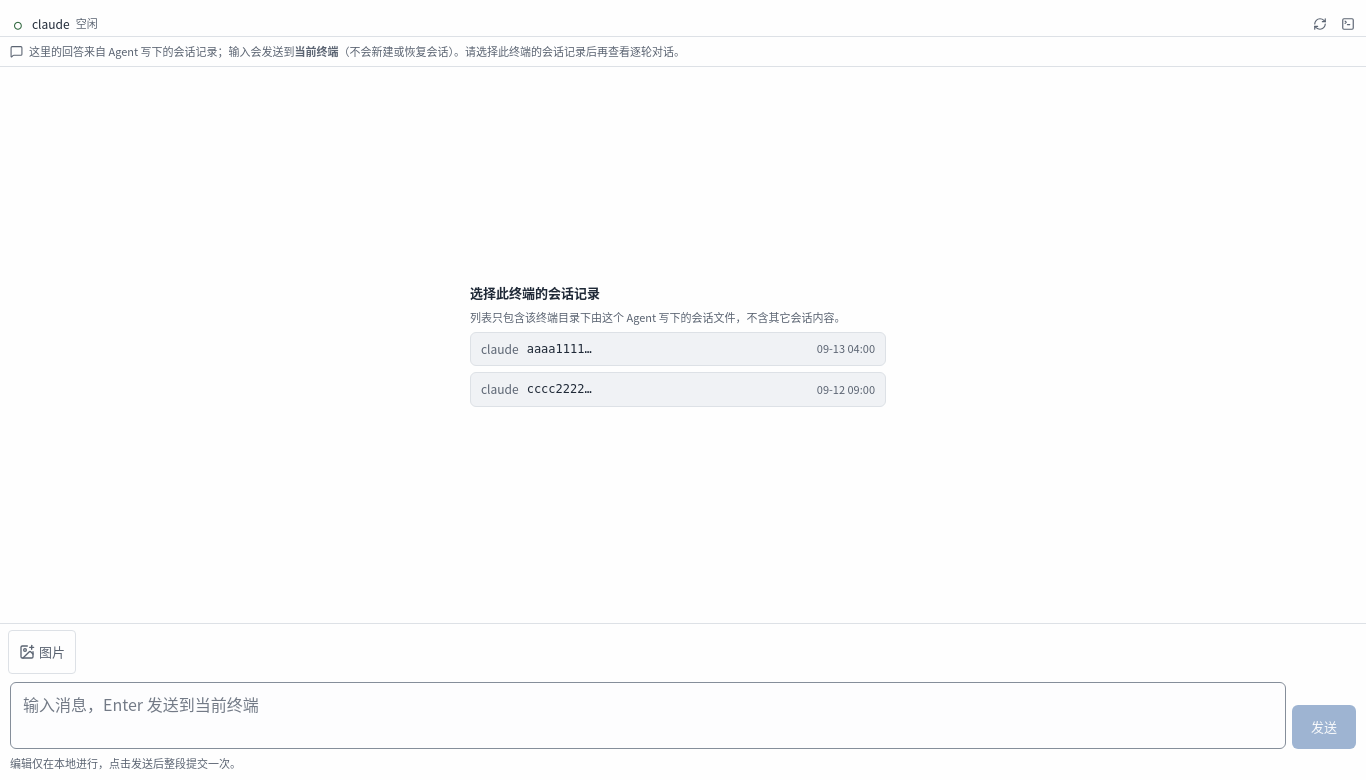
candidate selection › updates a repeated record id in place instead of appending a second copy
Click the button "claude aaaa1111… 09-13 04:00" at (500, 348), box x1=470 y1=332 x2=886 y2=366
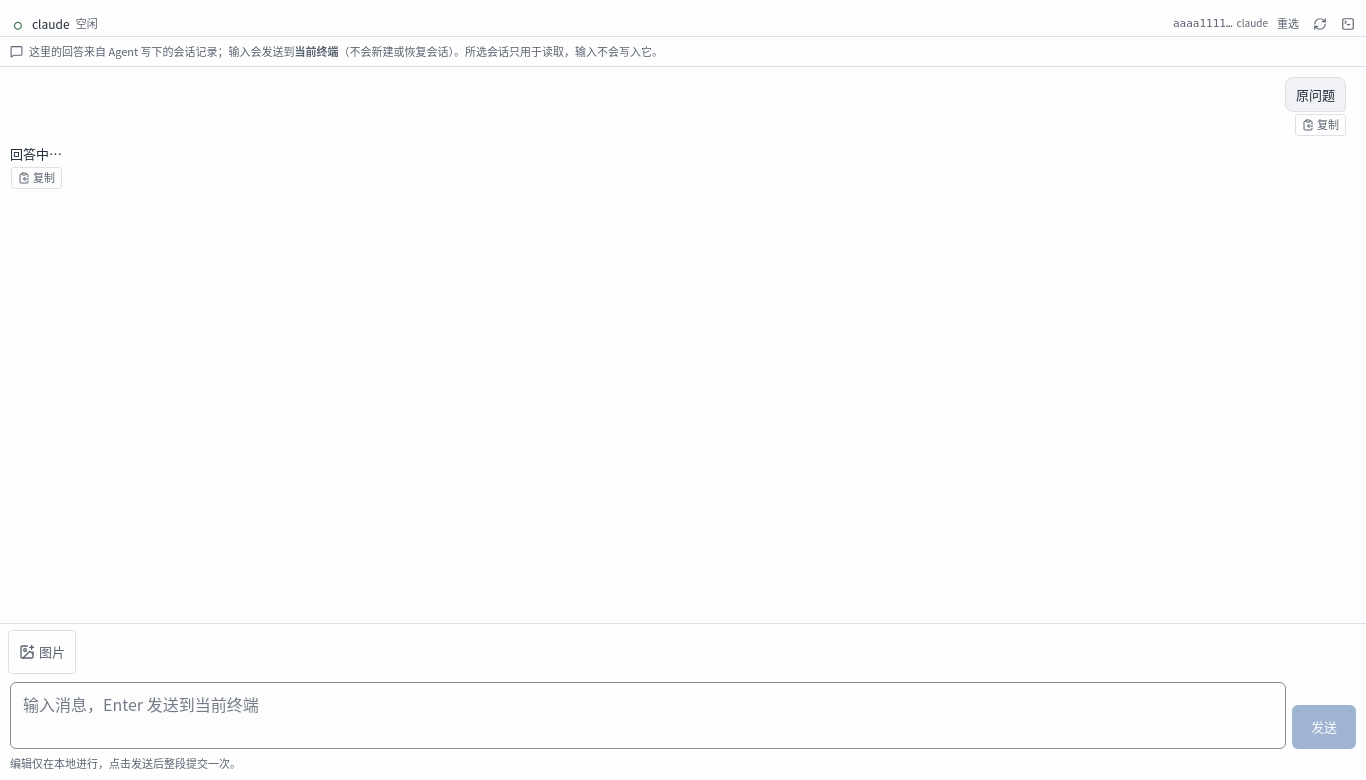
Now the text "回答中…" is shown, box x1=10 y1=144 x2=62 y2=165
Click the button named "刷新会话记录" at (1320, 24), box x1=1308 y1=12 x2=1332 y2=36
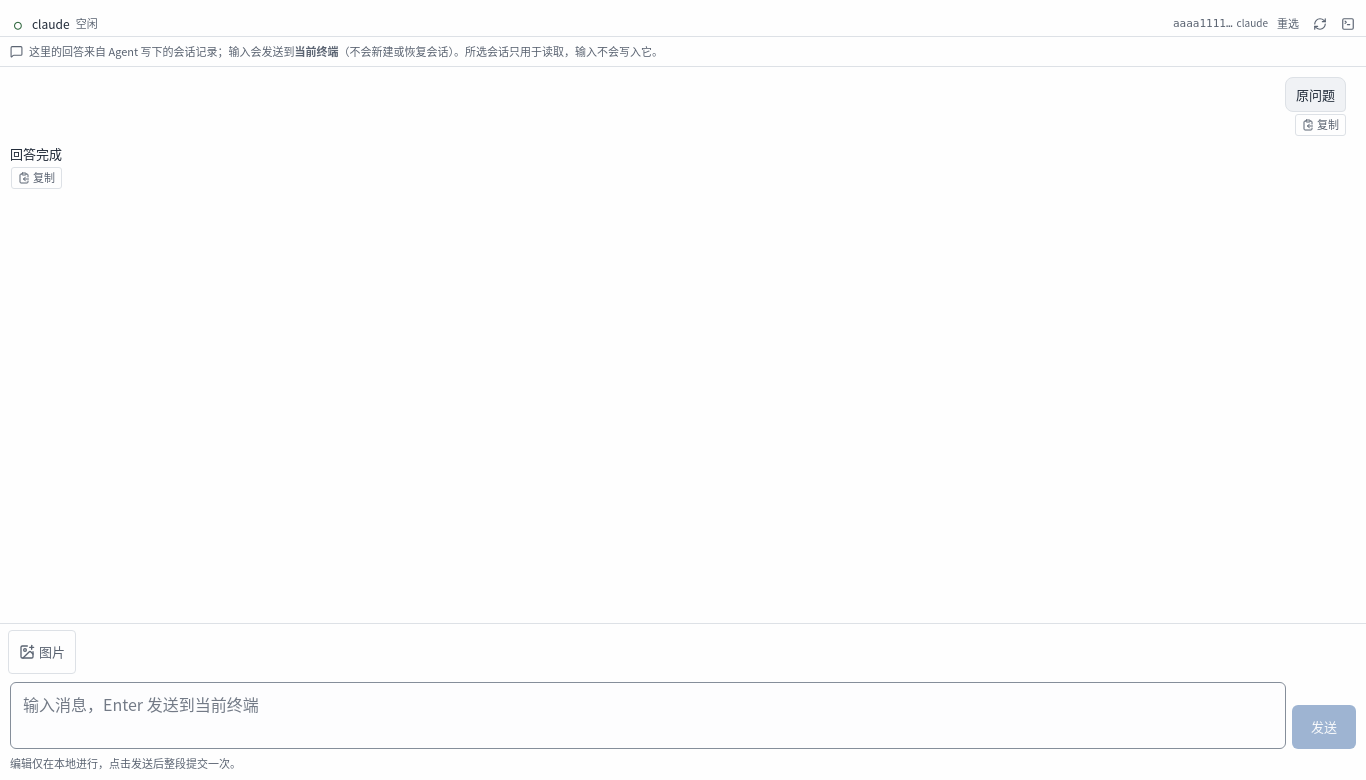
Now the number of elements with class "chat-message-assistant" is 1, box x1=10 y1=144 x2=62 y2=189
Now the text "回答完成" is shown, box x1=10 y1=144 x2=62 y2=165
Now the text "回答中…" is gone
